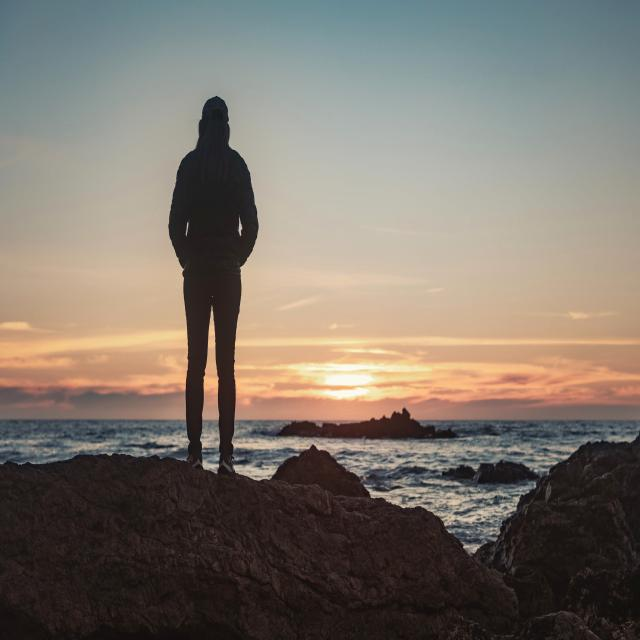adult: (167, 95, 258, 473)
